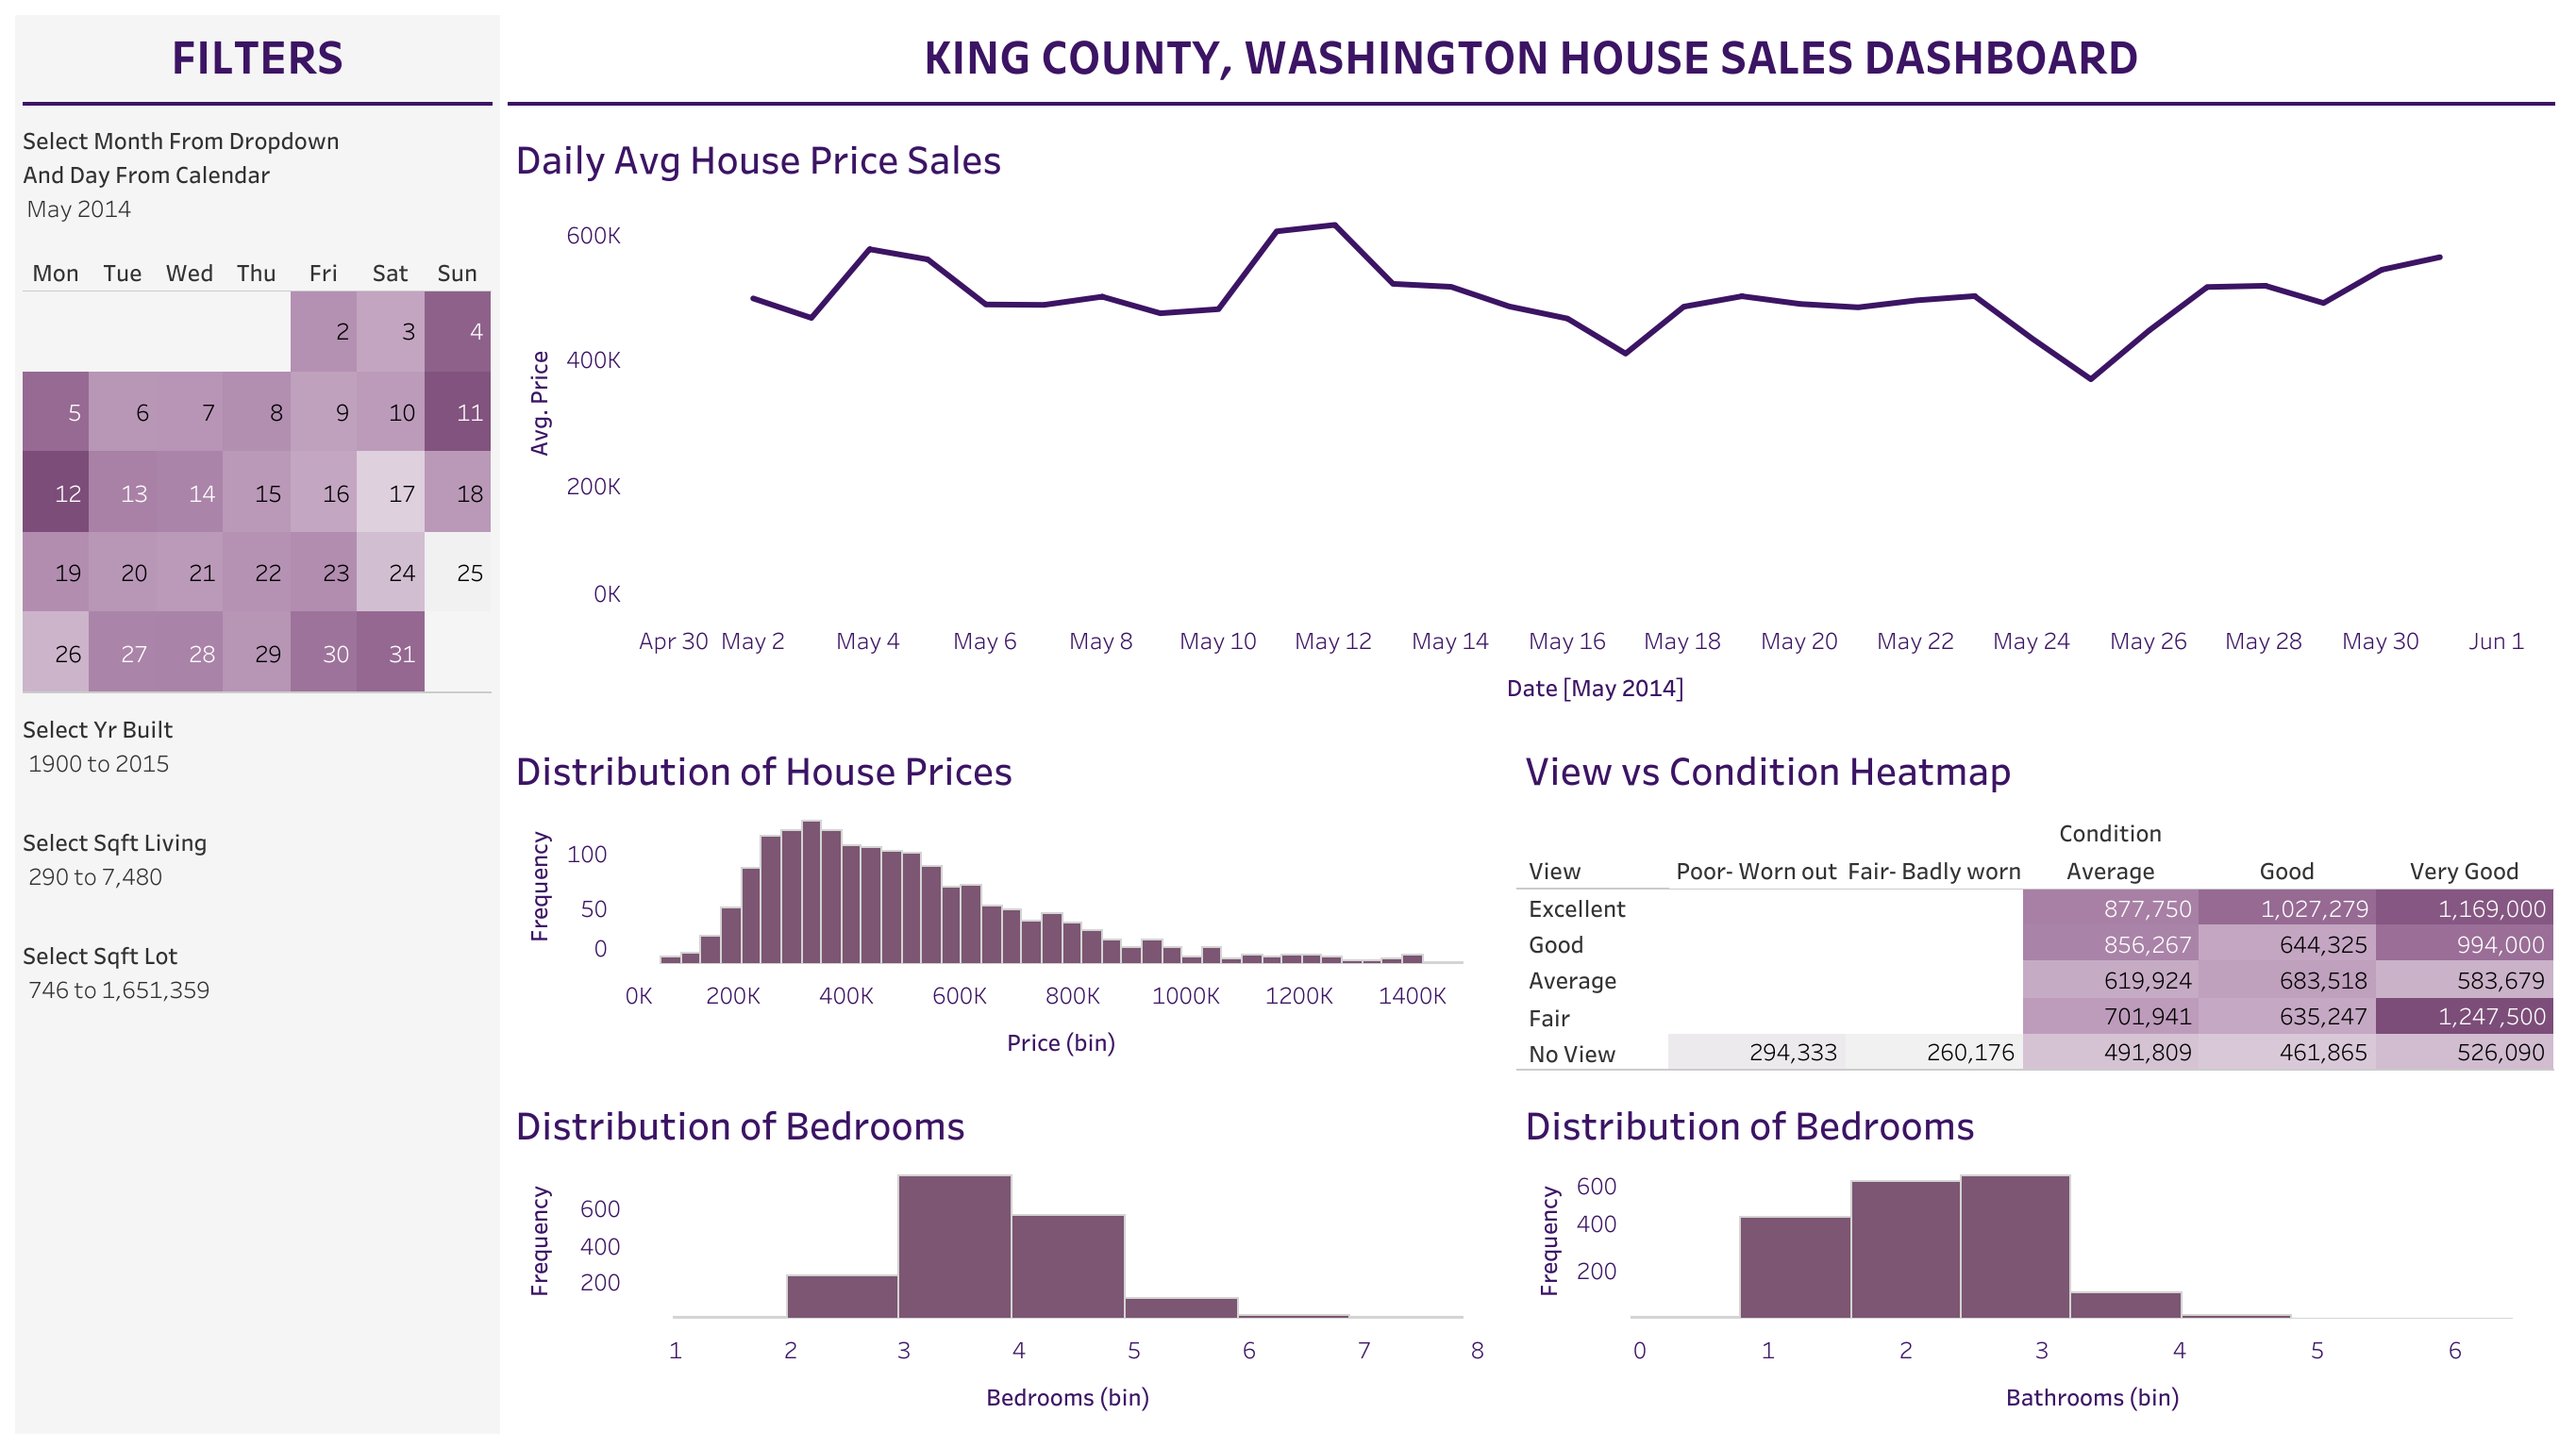

The page's visual inventory and layout, read from the dashboard file:
{"tool":"tableau","page":{"name":"HouseSalesDashboard","canvas":[1000,1000],"units":"permille","ordinal":0},"visuals":[{"type":"text","box":[5.9,10.4,188,54.7]},{"type":"text","box":[193.8,10.4,800.3,54.7]},{"type":"blank","box":[5.9,65.1,188,13]},{"type":"blank","box":[193.8,65.1,800.3,13]},{"type":"filter","title":"Calendar","param":"[federated.1q1gs9513awccd1ajrgbm1bpk5w9].[my:date:ok]","box":[5.9,78.1,188,91.2]},{"type":"worksheet","title":"DailyAvgSales","mark":"Automatic","rows":["price"],"cols":["date"],"box":[193.8,78.1,800.3,421.9]},{"type":"worksheet","title":"Calendar","mark":"Square","rows":["date"],"cols":["date"],"box":[5.9,169.3,188,315.1]},{"type":"filter","title":"Calendar","param":"[federated.1q1gs9513awccd1ajrgbm1bpk5w9].[none:yr_built:qk]","box":[5.9,484.4,188,78.1]},{"type":"worksheet","title":"HistHousePrice","mark":"Automatic","rows":["price"],"cols":["Price (bin)"],"box":[193.8,500,391.7,244.8]},{"type":"worksheet","title":"Heatmap","mark":"Square","rows":["view"],"cols":["condition"],"box":[585.5,500,408.6,244.8]},{"type":"filter","title":"Calendar","param":"[federated.1q1gs9513awccd1ajrgbm1bpk5w9].[none:sqft_living:qk]","box":[5.9,562.5,188,78.1]},{"type":"filter","title":"Calendar","param":"[federated.1q1gs9513awccd1ajrgbm1bpk5w9].[none:sqft_lot:qk]","box":[5.9,640.6,188,78.1]},{"type":"worksheet","title":"HistBedrooms","mark":"Automatic","rows":["bedrooms"],"cols":["Bedrooms (bin)"],"box":[193.8,744.8,391.7,244.8]},{"type":"worksheet","title":"HistBathrooms","mark":"Automatic","rows":["bathrooms"],"cols":["Bathrooms (bin)"],"box":[585.5,744.8,408.6,244.8]}]}

Visuals, with their boxes on the dashboard's canvas, which has no fixed pixel size, in thousandths of its width and height (x1, y1, x2, y2). These are canvas units, not pixel positions in the 2576x1447 screenshot, which may show the page scaled, cropped or inside an application window:
text: [x1=6, y1=10, x2=194, y2=65]
text: [x1=194, y1=10, x2=994, y2=65]
blank: [x1=6, y1=65, x2=194, y2=78]
blank: [x1=194, y1=65, x2=994, y2=78]
"Calendar" filter: [x1=6, y1=78, x2=194, y2=169]
"DailyAvgSales" worksheet: [x1=194, y1=78, x2=994, y2=500]
"Calendar" worksheet (Square marks): [x1=6, y1=169, x2=194, y2=484]
"Calendar" filter: [x1=6, y1=484, x2=194, y2=562]
"HistHousePrice" worksheet: [x1=194, y1=500, x2=586, y2=745]
"Heatmap" worksheet (Square marks): [x1=586, y1=500, x2=994, y2=745]
"Calendar" filter: [x1=6, y1=562, x2=194, y2=641]
"Calendar" filter: [x1=6, y1=641, x2=194, y2=719]
"HistBedrooms" worksheet: [x1=194, y1=745, x2=586, y2=990]
"HistBathrooms" worksheet: [x1=586, y1=745, x2=994, y2=990]
